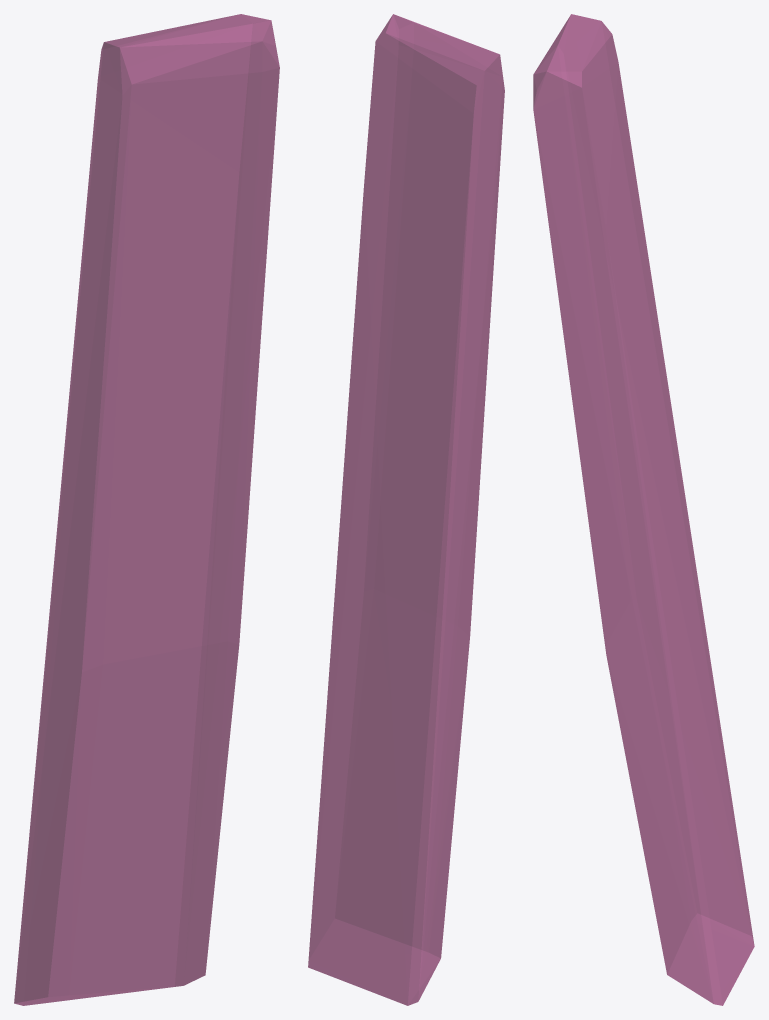
3 renders of one model, left to right at view 1: azimuth 30°, elevation 25°; view 2: azimuth 150°, elevation 25°; view 3: azimuth 270°, elevation 25°, orthographic. The views are drawn at different scales.
Parts seen in each view (by area): view 1: Shape_IndexedFaceSet.007_Shape_IndexedFaceSet.6414; view 2: Shape_IndexedFaceSet.007_Shape_IndexedFaceSet.6414; view 3: Shape_IndexedFaceSet.007_Shape_IndexedFaceSet.6414.
Boxes of the visible parts, <box> form: Shape_IndexedFaceSet.007_Shape_IndexedFaceSet.6414: <box>14,14,279,1005</box>; Shape_IndexedFaceSet.007_Shape_IndexedFaceSet.6414: <box>308,14,504,1005</box>; Shape_IndexedFaceSet.007_Shape_IndexedFaceSet.6414: <box>533,14,754,1005</box>.
Size of the model in its own units: 0.1617 by 1.08 by 0.2319.
